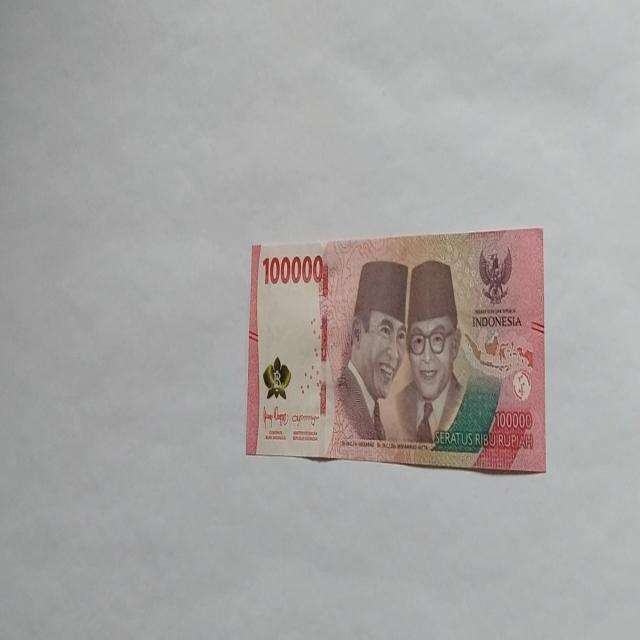seratus ribu rupiah: (245, 228, 546, 473), (333, 258, 409, 446), (394, 258, 466, 444)
